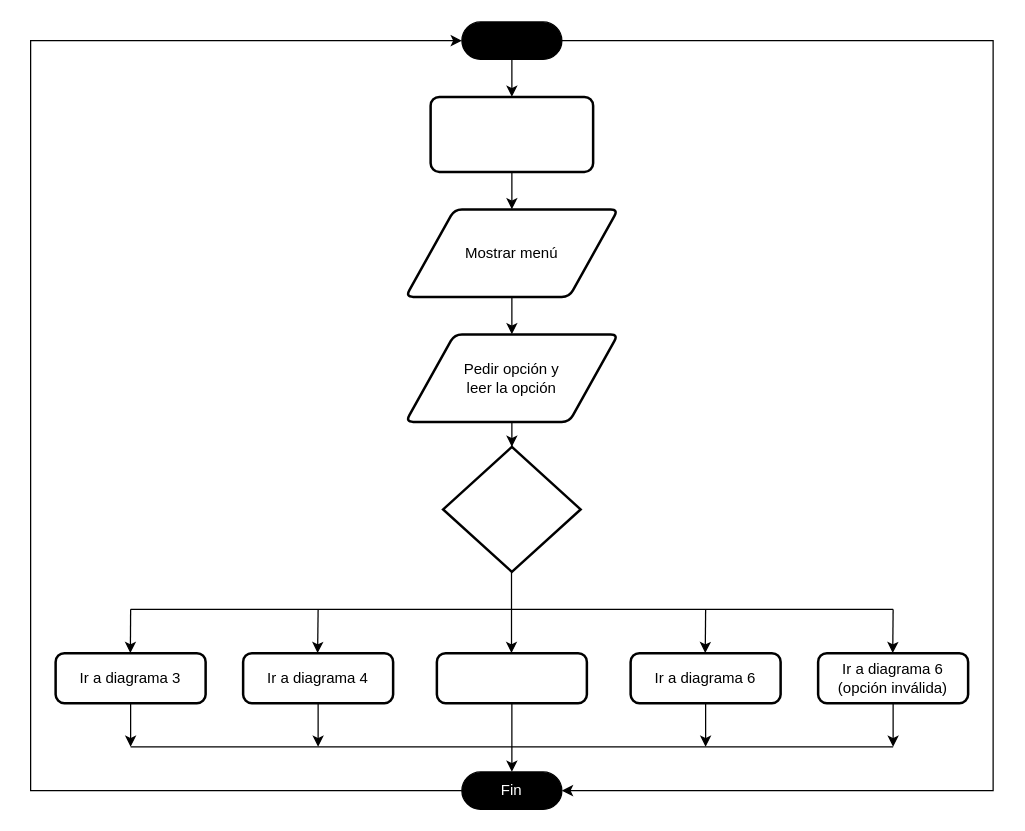
The diagram is 1025 pixels wide and 831 high, and some of its shapes have lost their labels. Each missing label, with the box of its shape:
Empezar bucle (do-while): (429, 95, 594, 172)
Inicio: (461, 21, 562, 59)
Ir a diagrama 5: (435, 651, 588, 704)
Opción elegida igual a: (441, 445, 581, 572)
